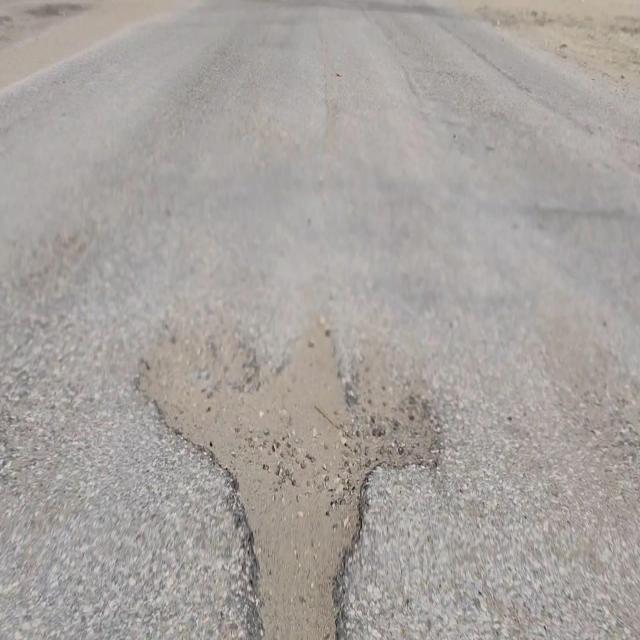Potholes: (134, 305, 442, 638)
